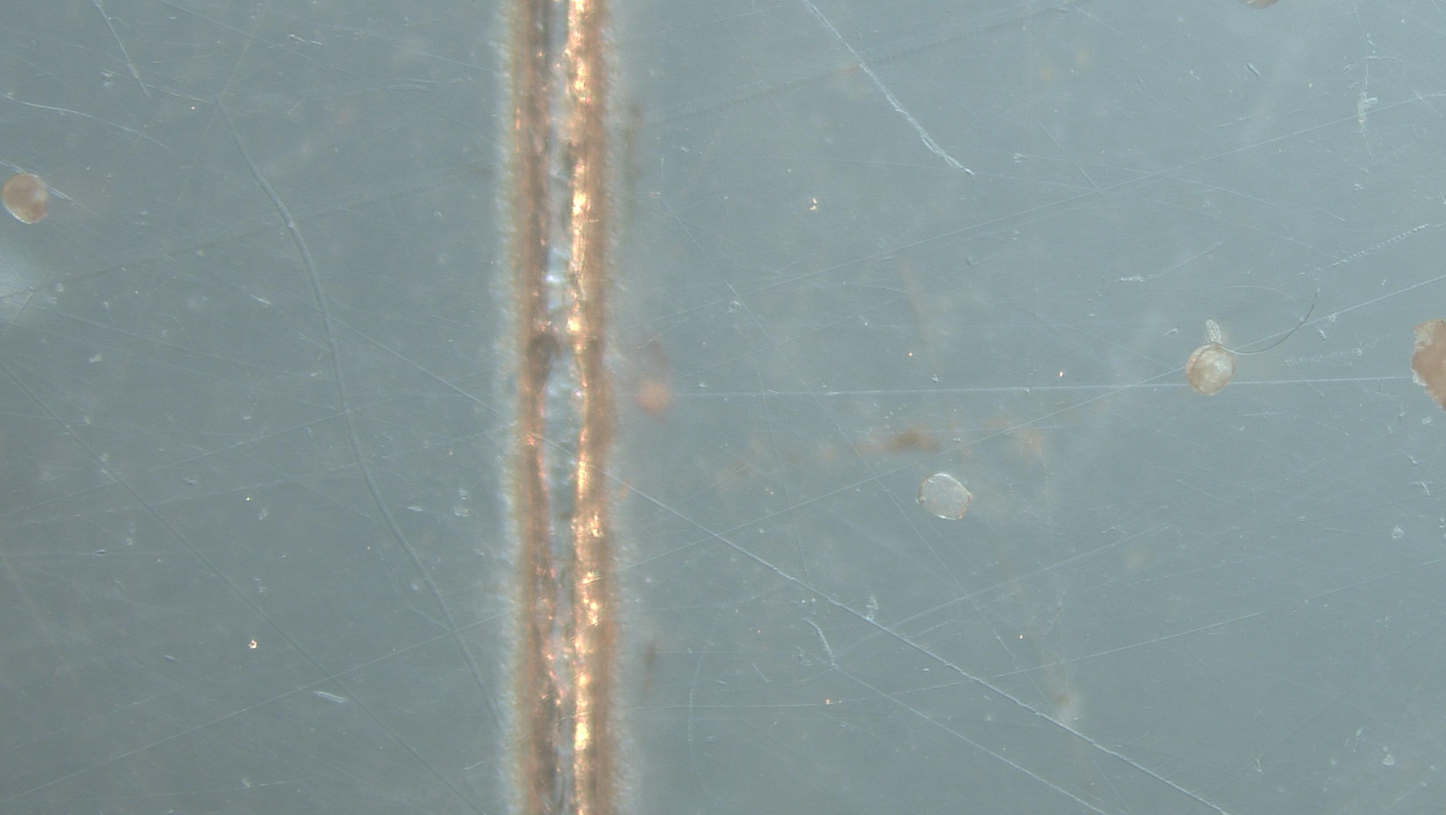dead: (919, 473, 972, 520)
live: (1186, 344, 1234, 395), (0, 175, 48, 224)
